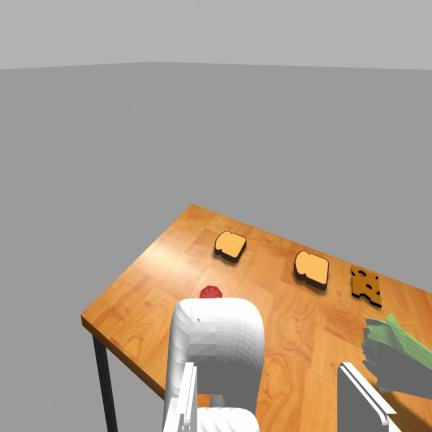cheese: (352, 265, 381, 307)
lettuce: (361, 313, 432, 398)
sliced_bread: (294, 251, 328, 289), (215, 231, 246, 262)
sliced_tomato: (200, 286, 222, 298)
